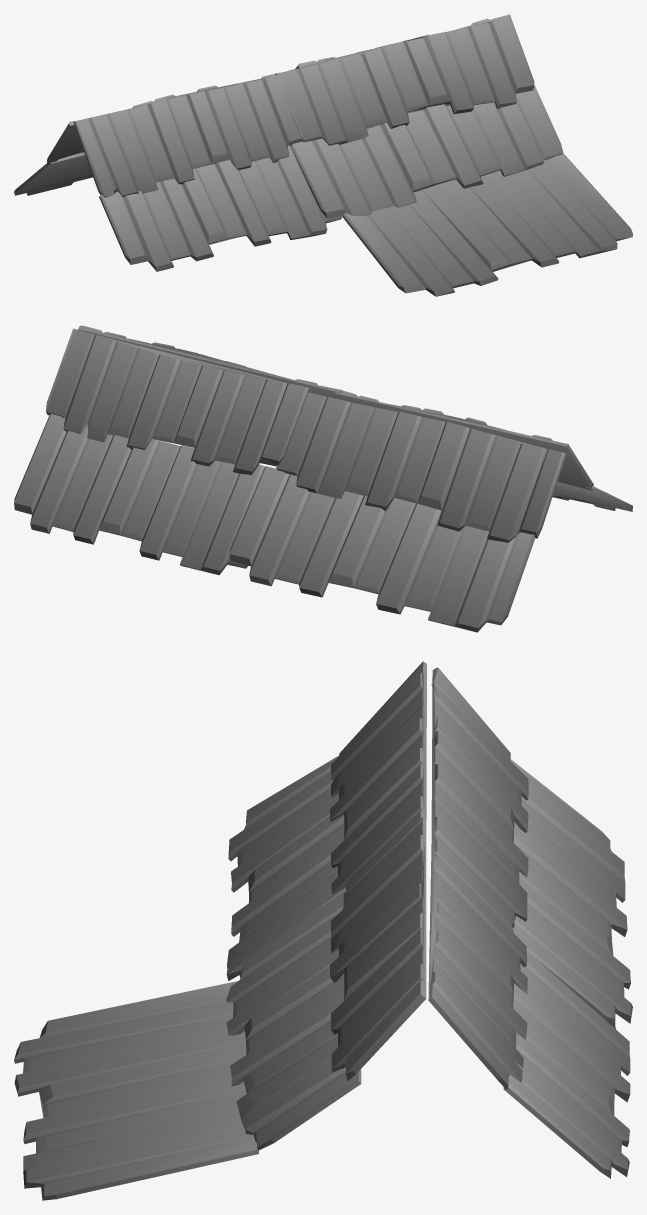
File: Roof_GreyPlanks.fbx
3 renders of one model, top to bottom at view 1: azimuth 30°, elevation 25°; view 2: azimuth 150°, elevation 25°; view 3: azimuth 270°, elevation 25°, orthographic. The views are drawn at different scales.
Parts seen in each view (by area): view 1: Roof_GreyPlanks; view 2: Roof_GreyPlanks; view 3: Roof_GreyPlanks.
Part boxes in pixels (box(x1,y1,x2,y2)): Roof_GreyPlanks: box(14, 14, 632, 296); Roof_GreyPlanks: box(14, 325, 632, 632); Roof_GreyPlanks: box(14, 661, 632, 1200).
Size of the model in its own units: 13.78 by 4.09 by 10.7.
